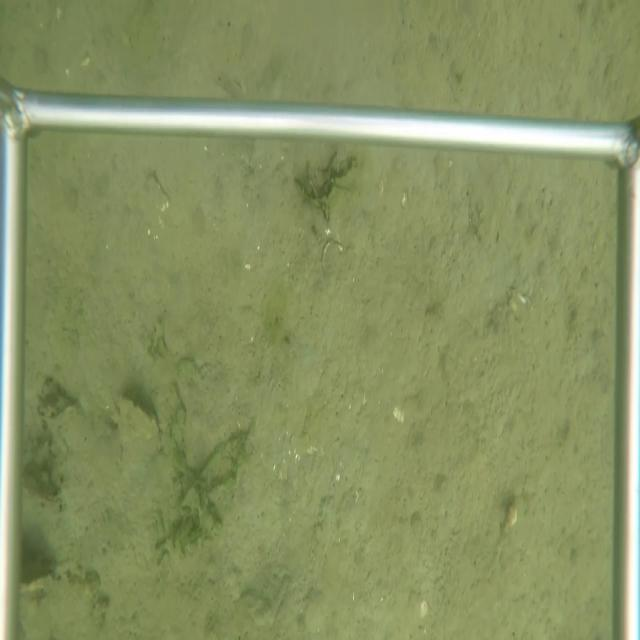Oyster-Closed: (110, 389, 164, 444)
